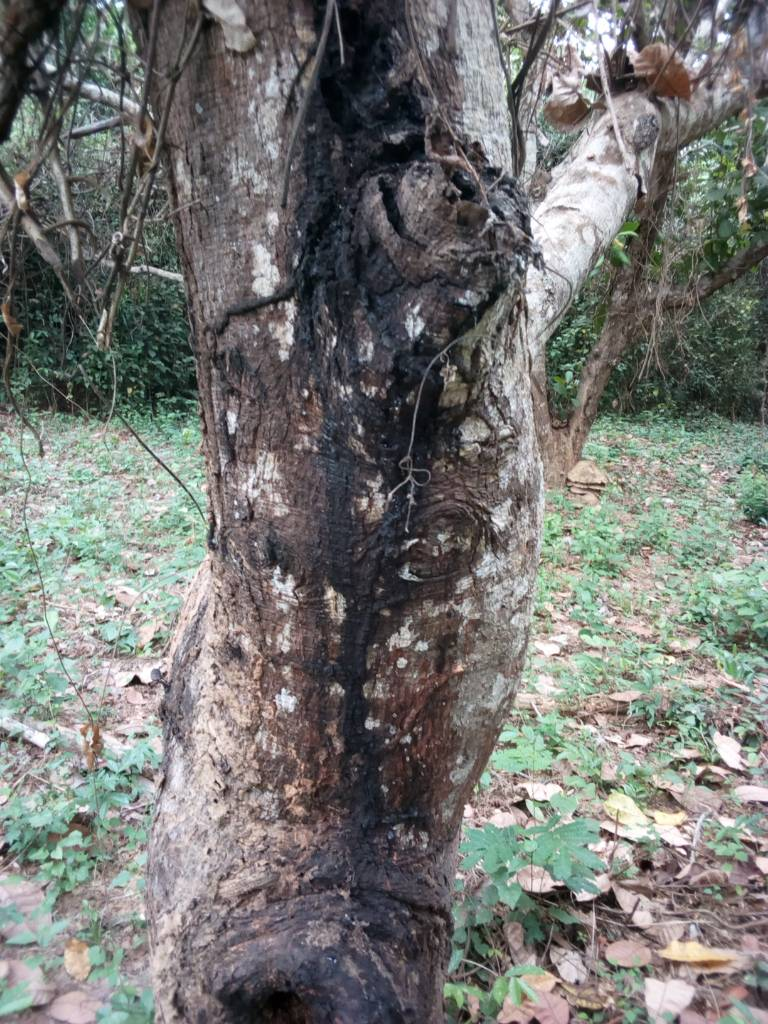Gommose: (307, 85, 455, 435), (319, 392, 427, 838)
